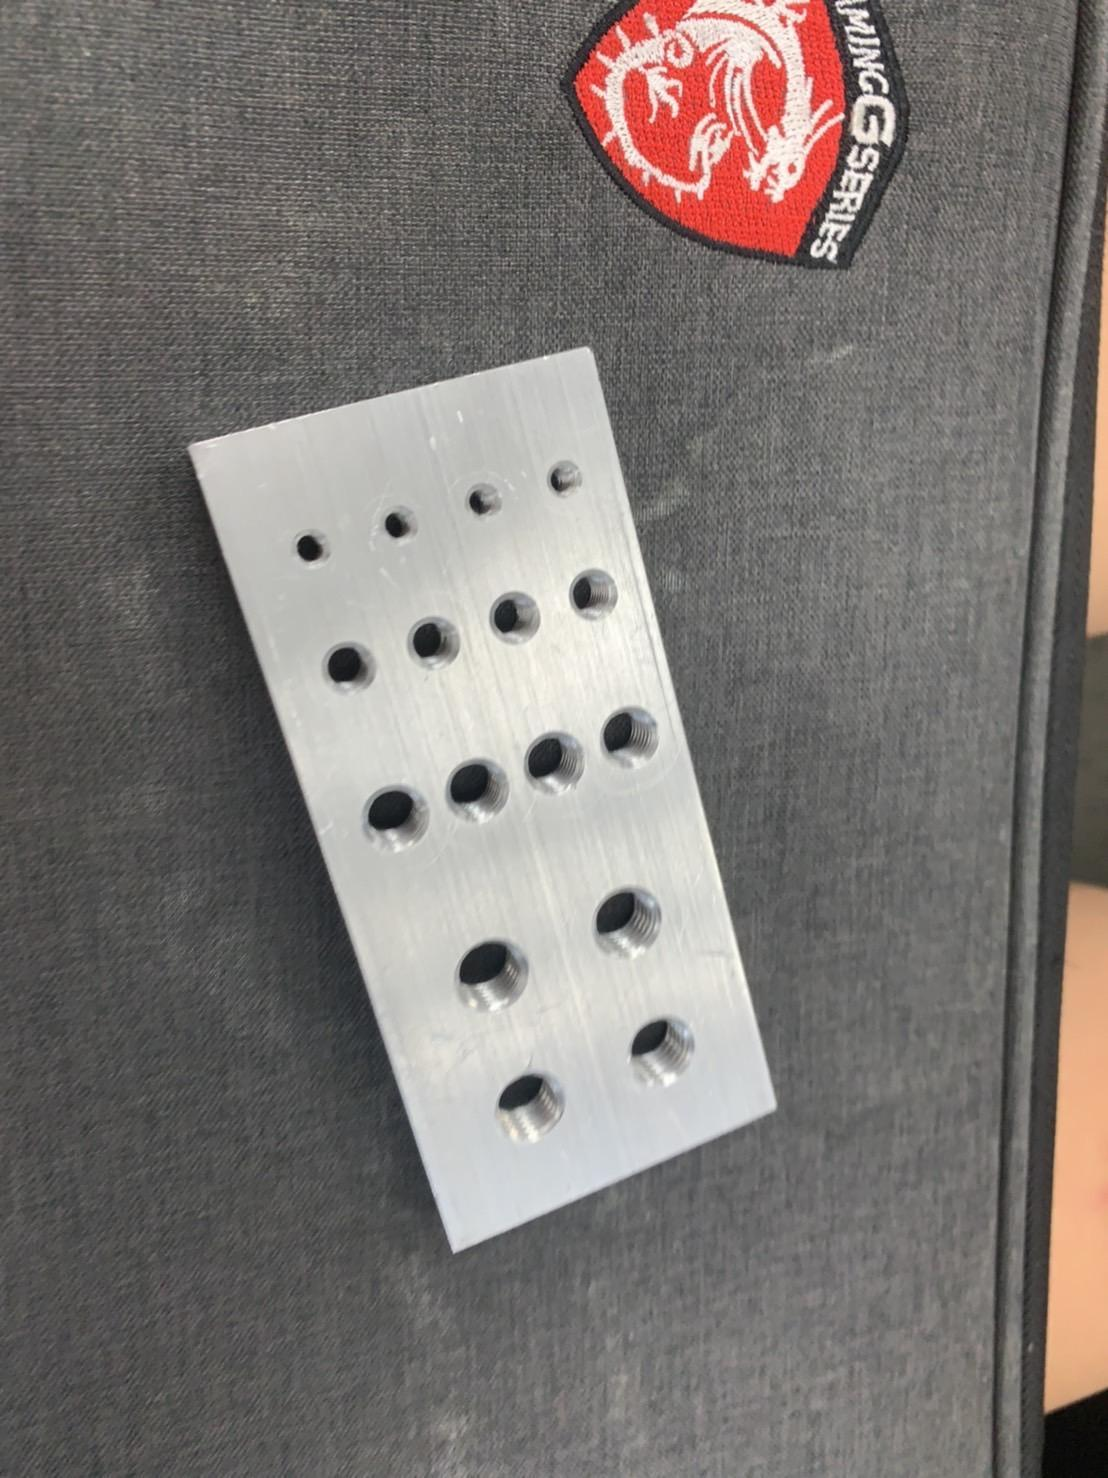hole: (586, 885, 674, 974), (452, 935, 534, 1013), (495, 1066, 573, 1146), (622, 1010, 696, 1094), (360, 783, 429, 864), (524, 726, 591, 798), (600, 700, 666, 771), (446, 758, 511, 828), (562, 565, 622, 618), (408, 615, 463, 670), (490, 592, 540, 650), (314, 646, 373, 694), (457, 475, 503, 520), (289, 528, 330, 567), (382, 500, 415, 544), (545, 458, 577, 502)
